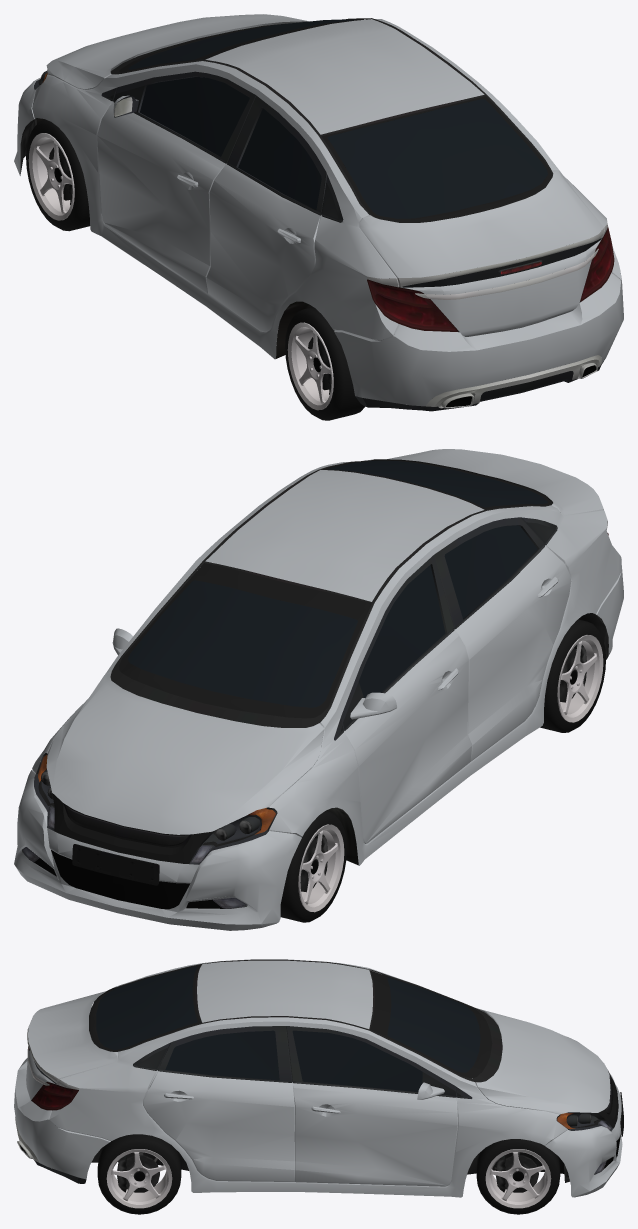
The model's file is sedan.glb.
3 renders of one model, top to bottom at view 1: azimuth 30°, elevation 25°; view 2: azimuth 150°, elevation 25°; view 3: azimuth 270°, elevation 25°, orthographic. The views are drawn at different scales.
Parts seen in each view (by area): view 1: carroceria_pintura, carroceria_vidrio, carroceria_textura, rueda_tras_izq_textura, rueda_del_izq_textura, carroceria_stop, carroceria_negro; view 2: carroceria_pintura, carroceria_vidrio, carroceria_textura, carroceria_negro, rueda_tras_izq_textura, rueda_del_izq_textura, carroceria_faro; view 3: carroceria_pintura, carroceria_vidrio, carroceria_textura, rueda_tras_der_textura, rueda_del_der_textura, carroceria_negro, carroceria_stop.
Boxes of the visible parts, x1,y1,x2,y2 form: carroceria_pintura: (14,14,623,406); carroceria_vidrio: (128,19,547,218); carroceria_textura: (20,18,607,411); rueda_tras_izq_textura: (285,307,365,420); rueda_del_izq_textura: (26,119,89,231); carroceria_stop: (367,227,614,331); carroceria_negro: (38,19,553,287); carroceria_pintura: (14,449,623,930); carroceria_vidrio: (128,460,547,707); carroceria_textura: (33,460,610,909); carroceria_negro: (38,459,552,846); rueda_tras_izq_textura: (540,619,605,732); rueda_del_izq_textura: (280,810,346,922); carroceria_faro: (22,754,275,908); carroceria_pintura: (14,959,622,1197); carroceria_vidrio: (96,966,480,1091); carroceria_textura: (15,959,623,1192); rueda_tras_der_textura: (97,1134,181,1214); rueda_del_der_textura: (476,1139,560,1214); carroceria_negro: (89,964,600,1127); carroceria_stop: (28,1048,78,1110).
Size of the model in its own units: 1.74 by 1.47 by 4.45.
Materials: 6 (3 with a texture image).
